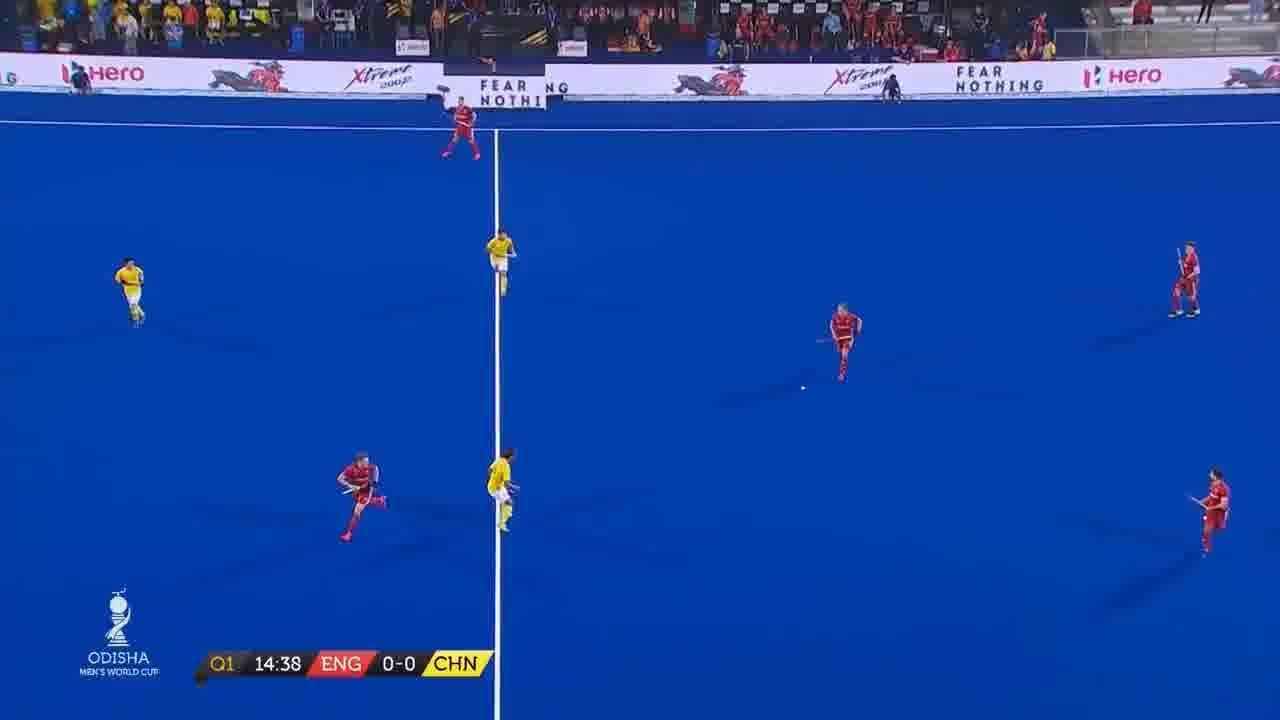ball: (794, 382, 817, 393)
